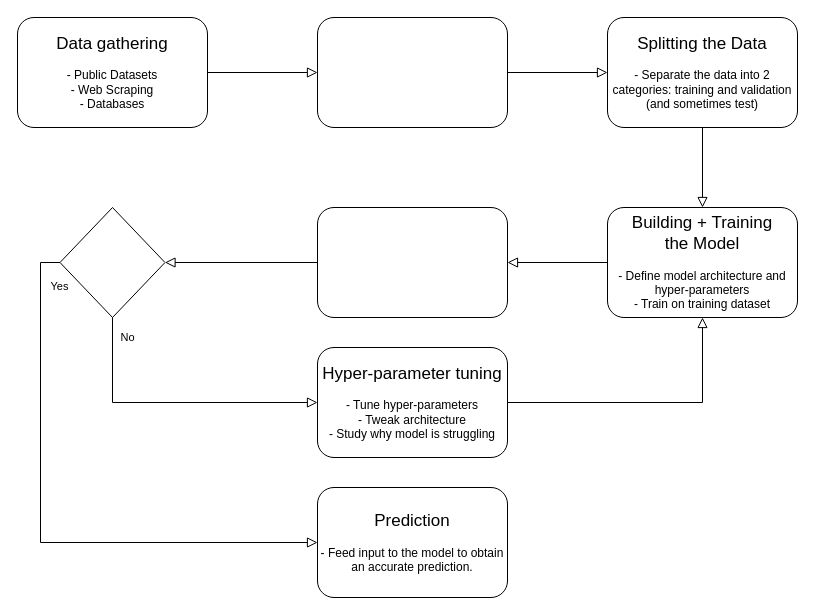
This 815x615 diagram has some shape labels left out. Each missing label, with the centre of its shape:
"Data pre-processing - Cleaning Data - Handle categorial/ordinal data - Databases" goes at point (412, 72).
"Evaluate Performance - Choose correct metric - Evaluate on validation set" goes at point (412, 262).
"Satisfactory?" goes at point (112, 262).
